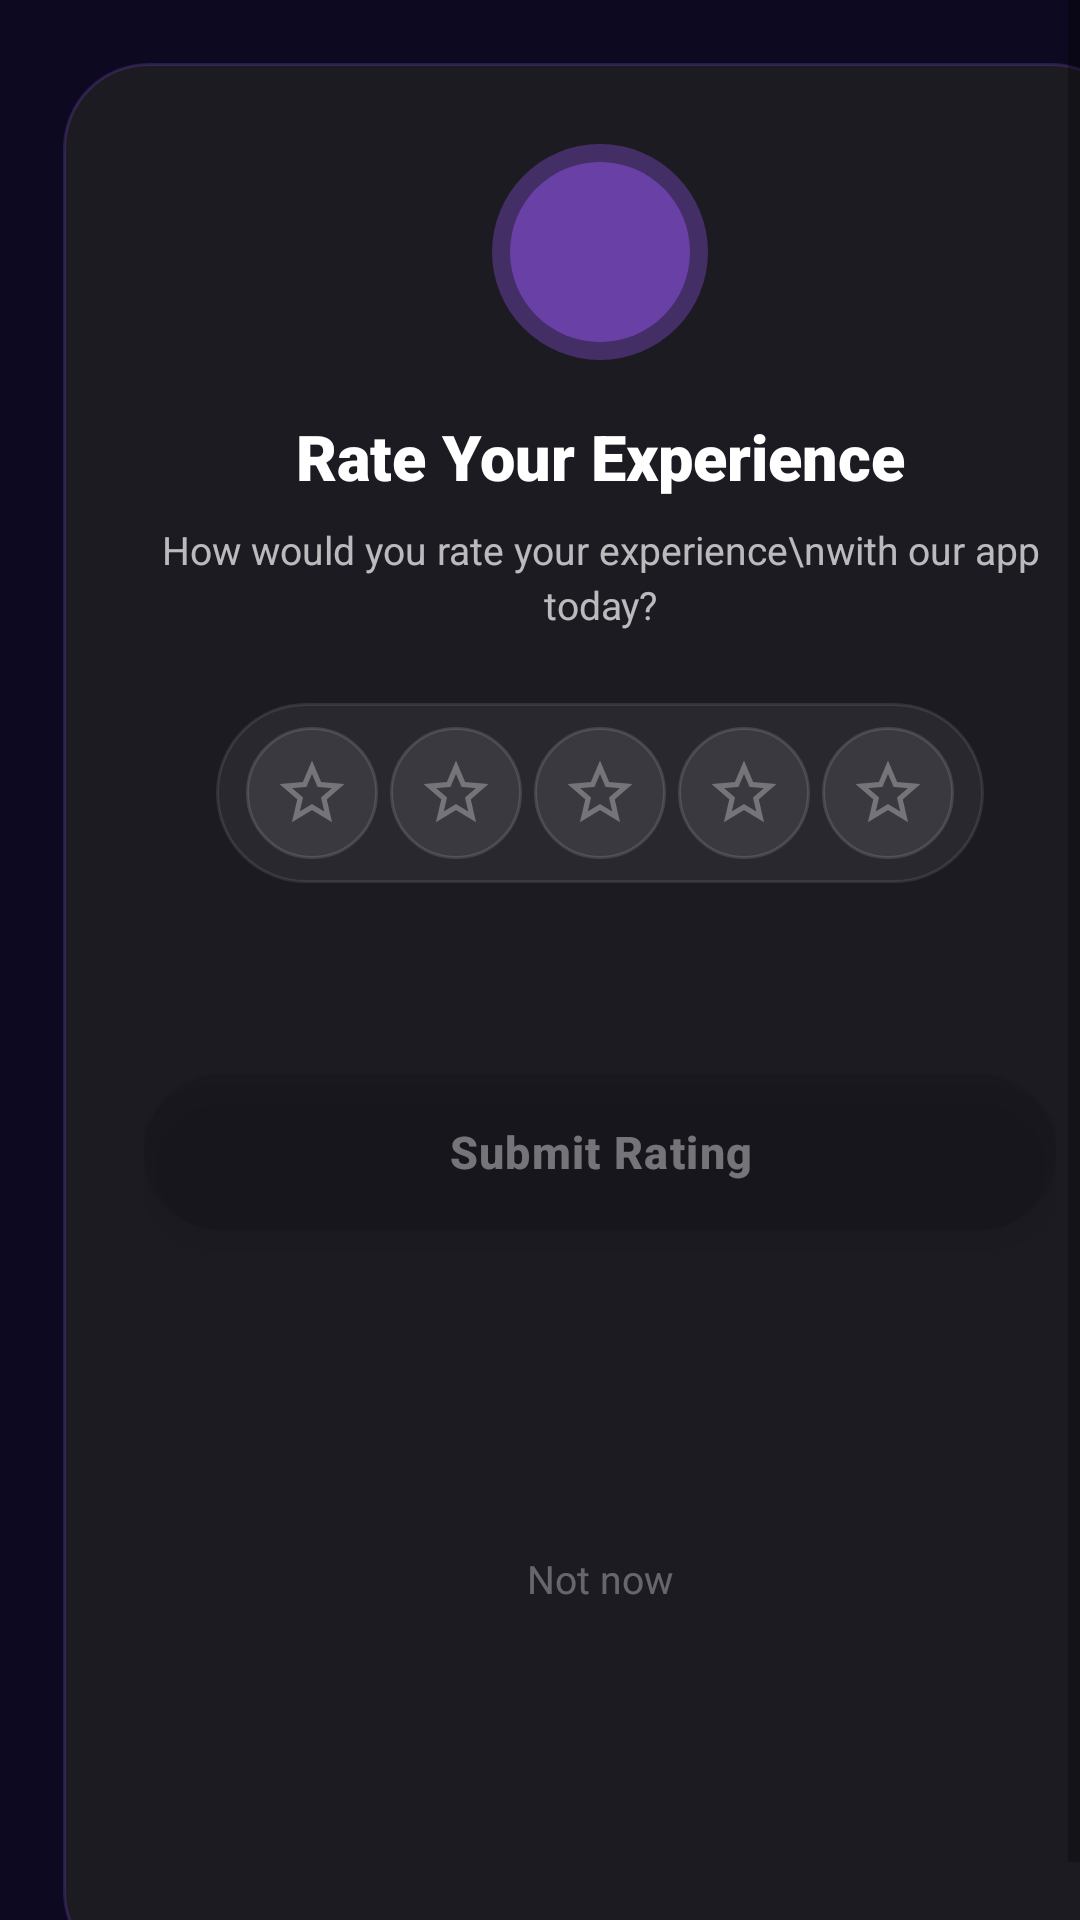

Screen size 1080w x 1920h. Icon name, then its box in pixels as (x1, y1, x2, y2):
1 star: (280, 762, 344, 822)
2 stars: (424, 762, 488, 822)
3 stars: (568, 762, 632, 822)
4 stars: (712, 762, 776, 822)
5 stars: (856, 762, 920, 822)
